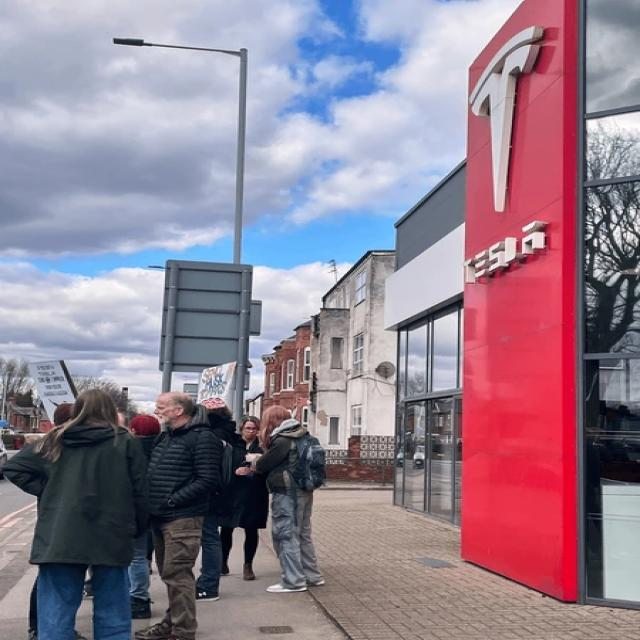tesla: (467, 23, 544, 212)
